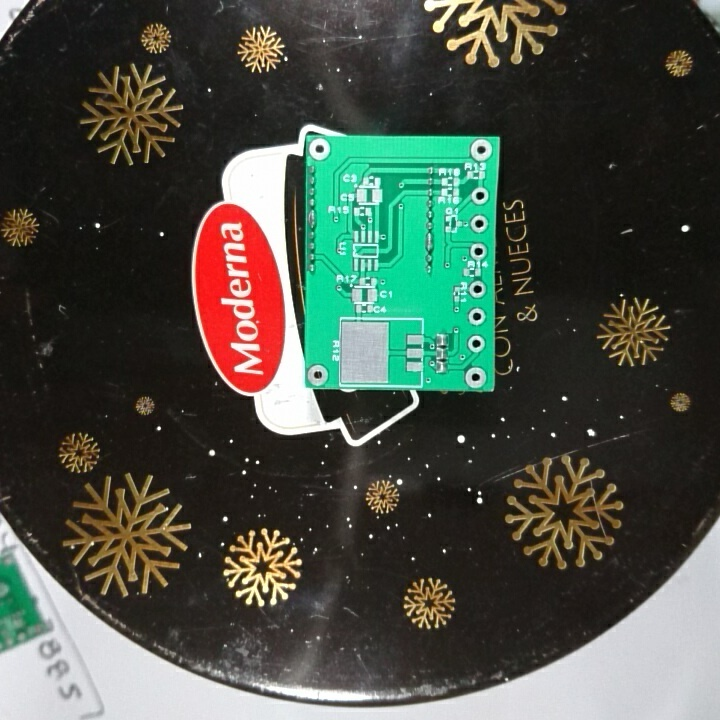F: (468, 137, 496, 164), (463, 363, 489, 390), (307, 136, 331, 163), (306, 363, 331, 388), (466, 239, 488, 261), (468, 212, 489, 235), (466, 306, 487, 329), (468, 279, 488, 301), (466, 332, 485, 355), (470, 186, 489, 206)
P: (422, 229, 436, 252), (306, 209, 319, 229)
